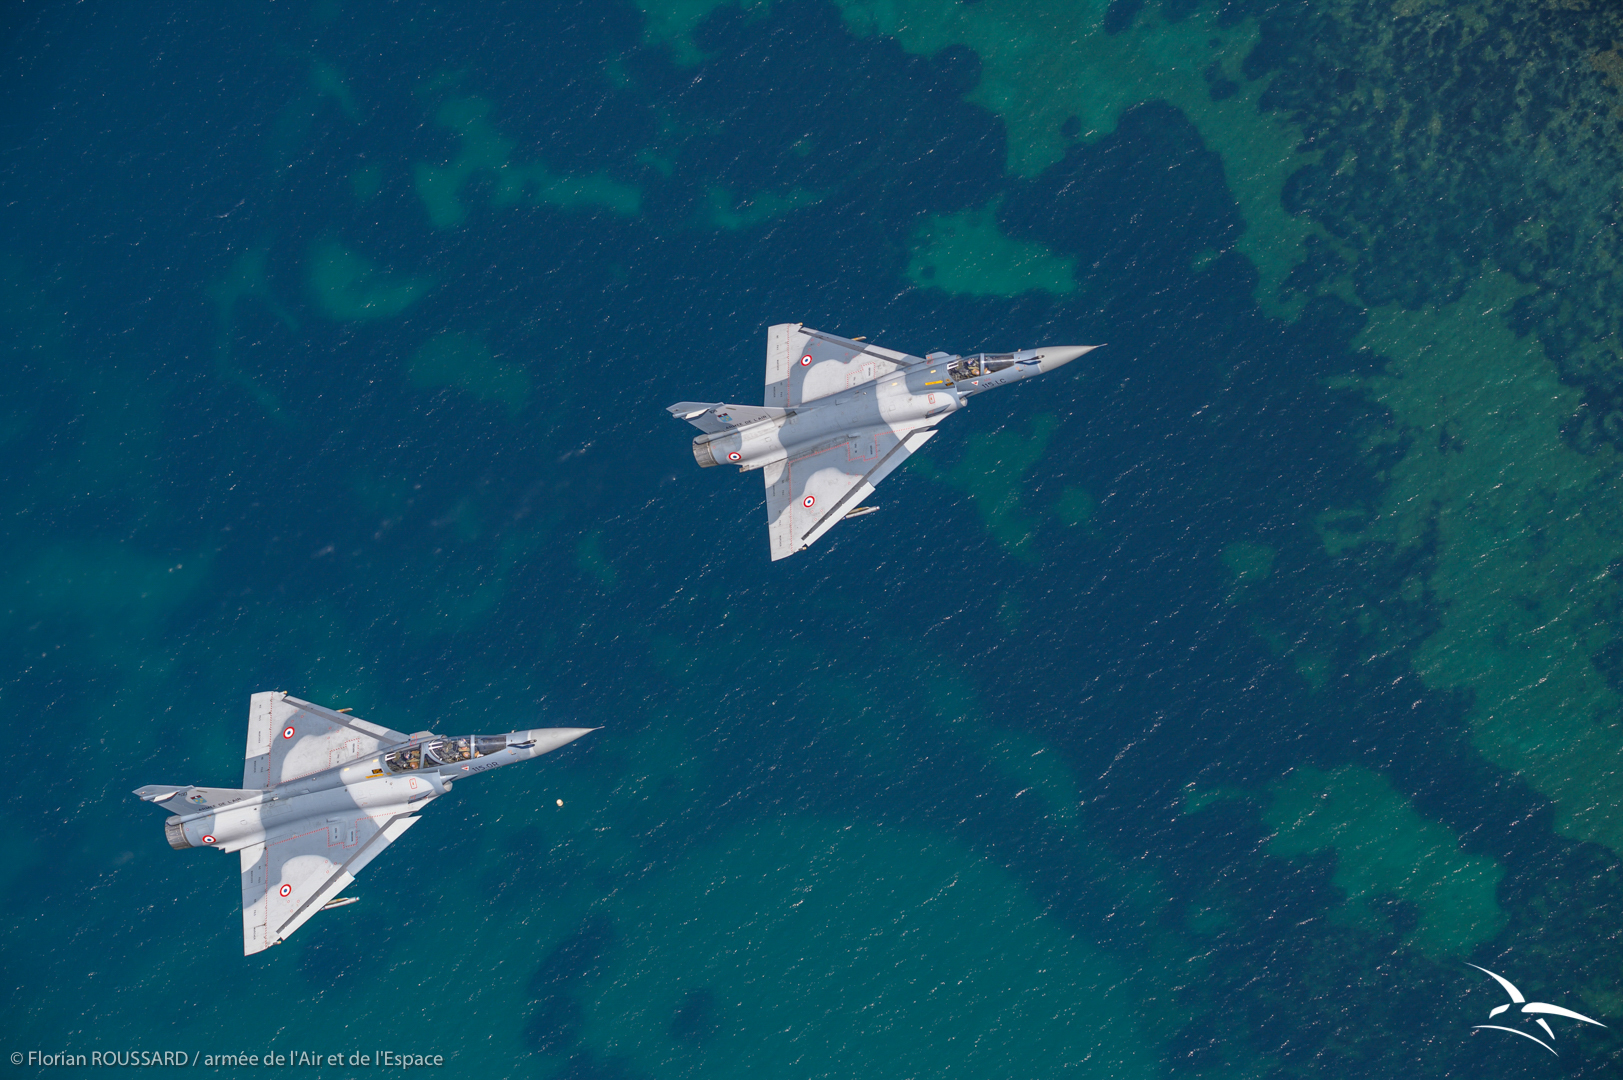Mirage2000: (131, 689, 605, 957), (665, 322, 1109, 562)
